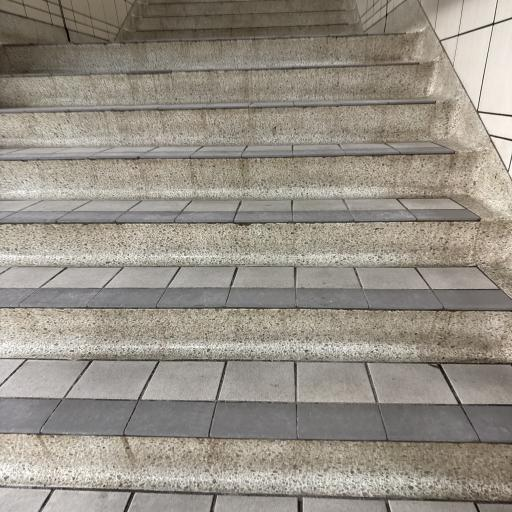Stairs: (0, 0, 512, 512), (116, 0, 362, 40)
